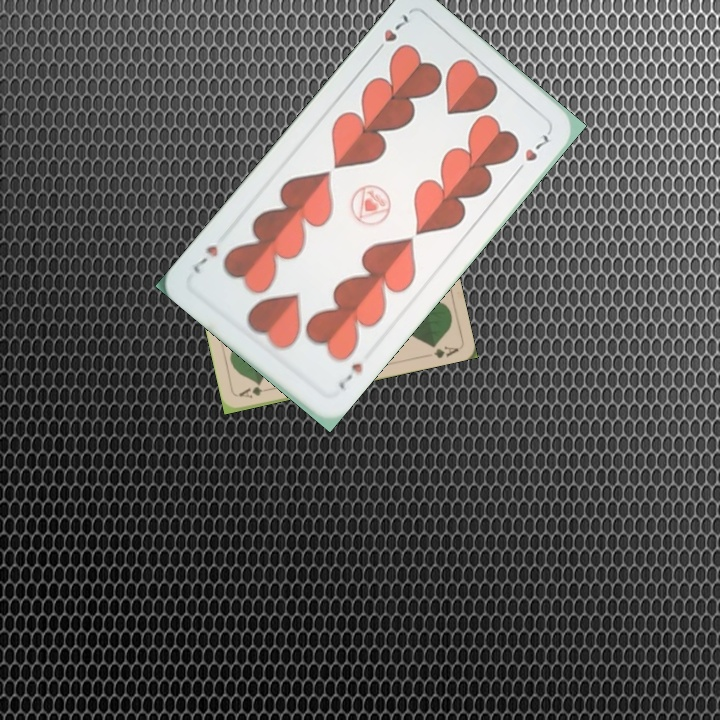GA: (235, 382, 265, 401)
H7: (369, 10, 411, 58), (333, 359, 366, 392)
